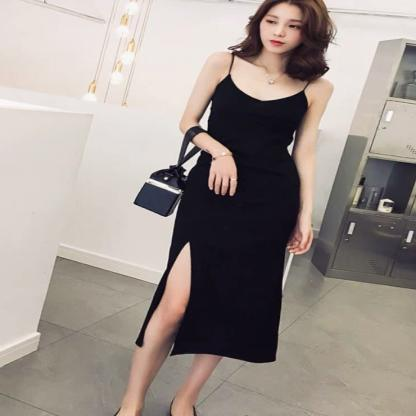jacket: (144, 53, 325, 370)
